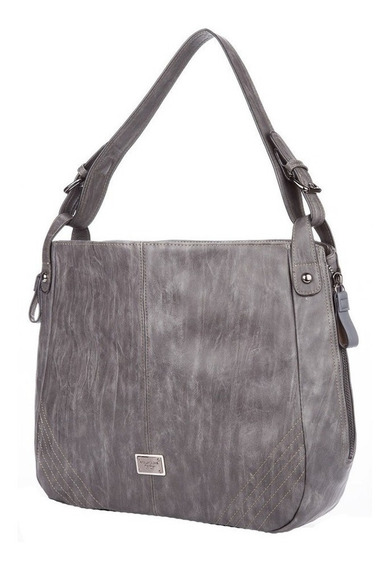cartera: (28, 28, 359, 535)
